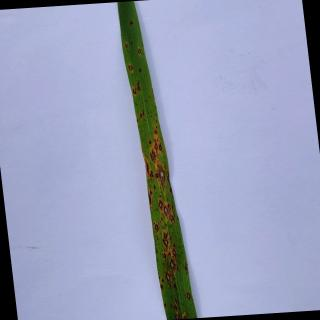Blast: (159, 165, 166, 191), (164, 270, 173, 286), (149, 148, 157, 162), (154, 221, 160, 235), (169, 258, 176, 270), (162, 229, 169, 240), (170, 248, 178, 256), (161, 252, 168, 261), (146, 161, 150, 176), (163, 206, 169, 216), (158, 200, 164, 210), (172, 302, 178, 312), (168, 215, 175, 223), (167, 171, 171, 185), (154, 141, 159, 152), (128, 64, 134, 73), (163, 239, 169, 248), (148, 193, 152, 206), (182, 312, 188, 320), (137, 81, 141, 92), (138, 112, 144, 119), (186, 293, 192, 300), (132, 88, 137, 96), (158, 142, 162, 152), (175, 312, 180, 320), (128, 20, 134, 26), (137, 48, 142, 55), (154, 128, 158, 136), (155, 172, 159, 180), (184, 264, 188, 272), (150, 170, 154, 177), (167, 203, 171, 210), (148, 139, 152, 145), (150, 189, 153, 196), (125, 43, 128, 49), (170, 188, 172, 194), (154, 185, 156, 190), (172, 194, 174, 198)
